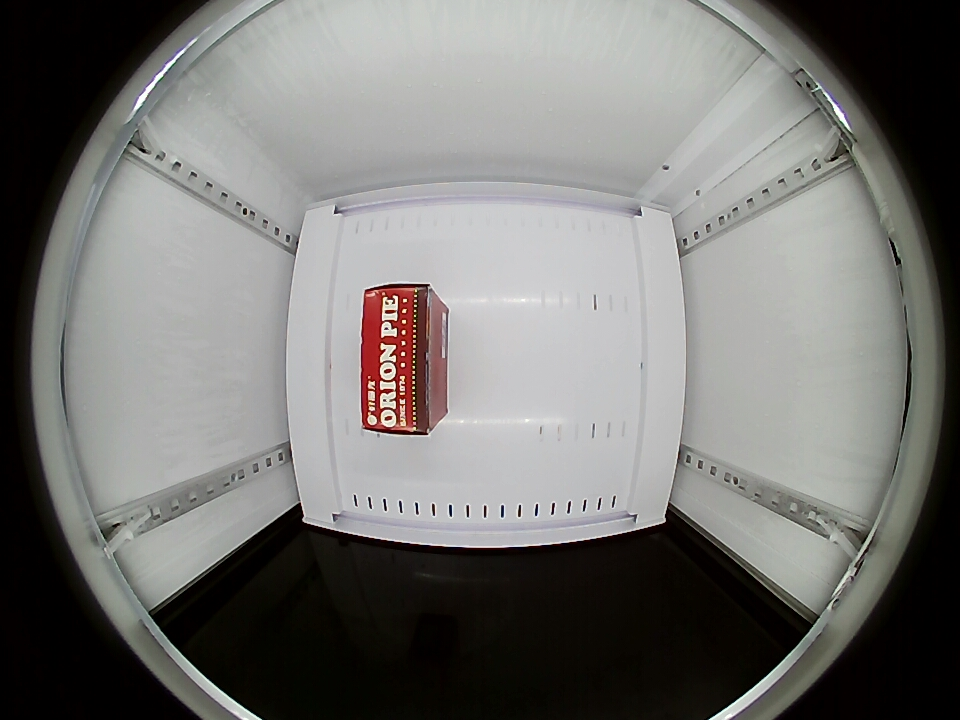haoliyou: (361, 284, 446, 436)
